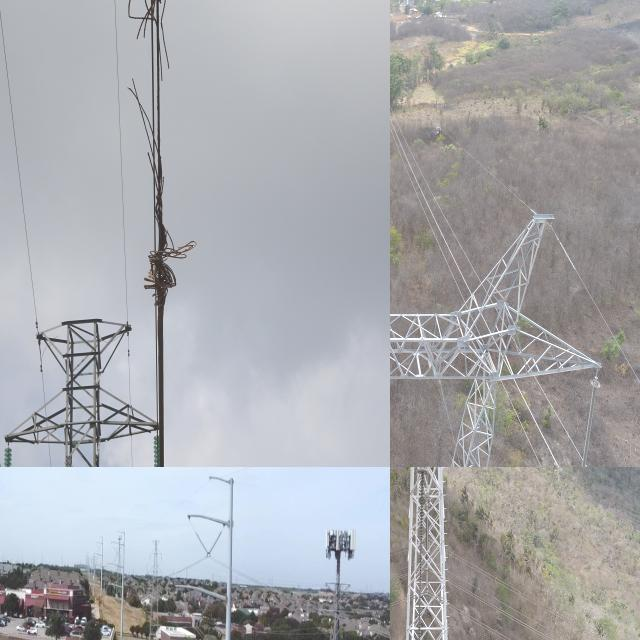杆塔: (390, 195, 611, 467), (392, 467, 467, 640), (305, 570, 353, 640), (146, 536, 162, 640)
正常绝缘子: (413, 467, 427, 640), (576, 372, 600, 467), (193, 528, 212, 560), (206, 530, 224, 559)
电缆破损: (117, 0, 211, 304)
